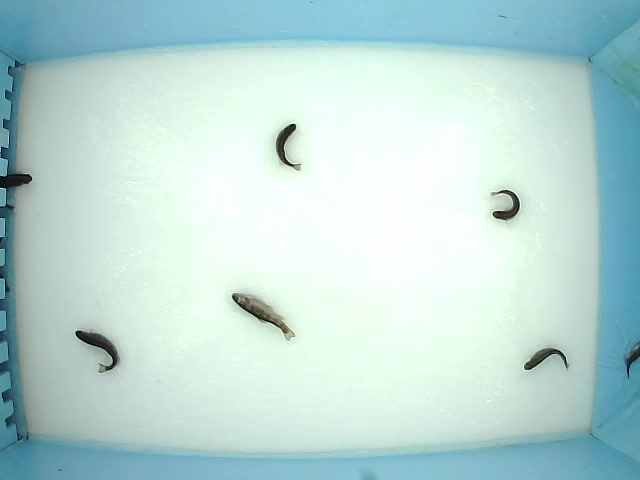fish: (231, 292, 297, 342), (74, 329, 121, 375), (274, 122, 303, 172), (523, 345, 570, 374), (489, 189, 520, 223)
